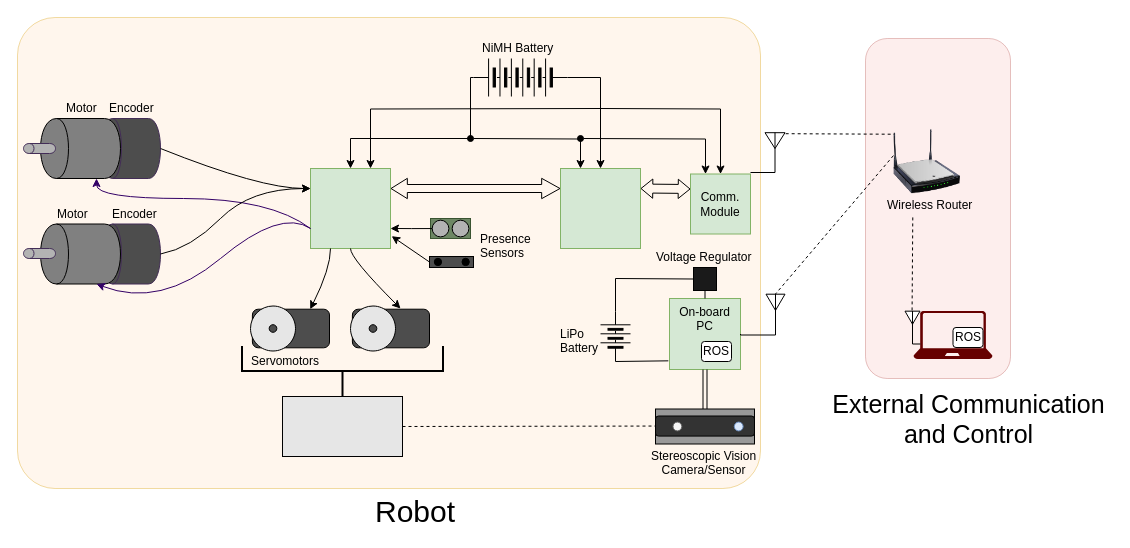
This 1130x548 diagram has some shape labels left out. The centre of each missing label's shape, as x and y in pixels:
"Camera Mount" belongs at [342,426].
"Controller Board" belongs at [350,208].
"DSP Module" belongs at [600,208].
